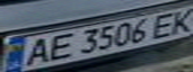0: (115, 20, 136, 47)
3: (75, 26, 100, 55)
5: (97, 24, 118, 52)
6: (127, 16, 157, 44)
A: (18, 36, 57, 68)
E: (145, 10, 184, 39), (42, 32, 78, 63)
K: (163, 7, 193, 35)
